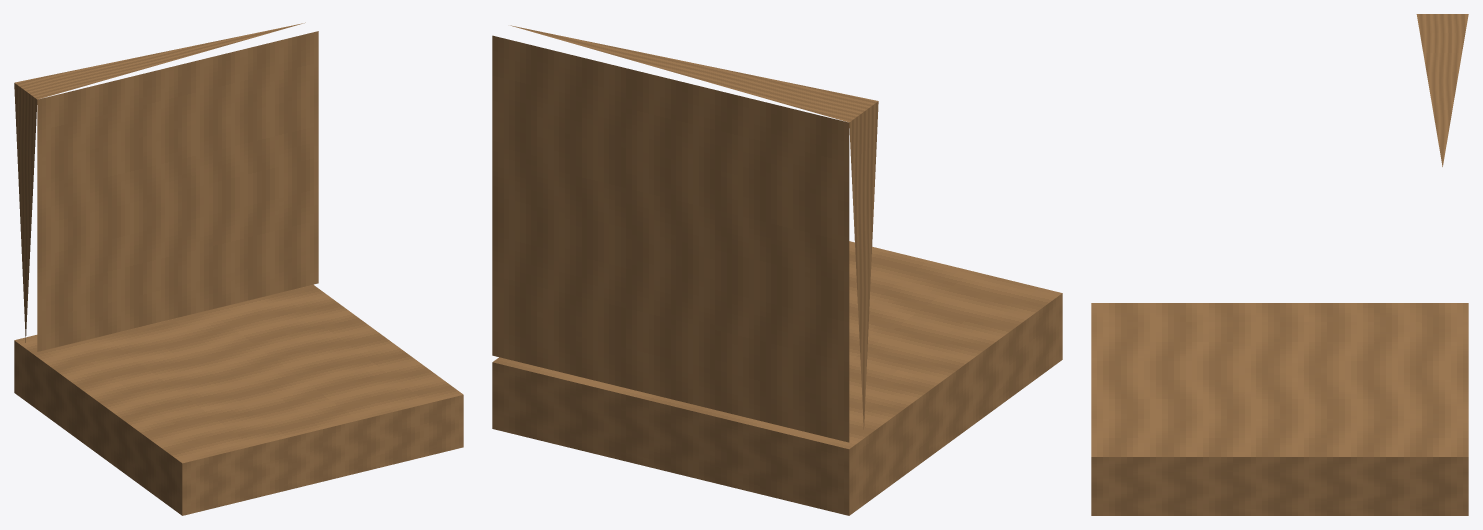
The picture shows the model from 3 angles, left to right: view 1: azimuth 30°, elevation 25°; view 2: azimuth 150°, elevation 25°; view 3: azimuth 270°, elevation 25°; orthographic projection. The views are drawn at different scales.
Parts seen in each view (by area): view 1: Eichenstuhl; view 2: Eichenstuhl; view 3: Eichenstuhl.
Part boxes in pixels (x1,y1,x2,y2): Eichenstuhl: (14,22,463,515); Eichenstuhl: (492,25,1062,515); Eichenstuhl: (1091,14,1468,515).
Size of the model in its own units: 0.56 by 0.59 by 0.58.
Materials: 1 (1 with a texture image).
